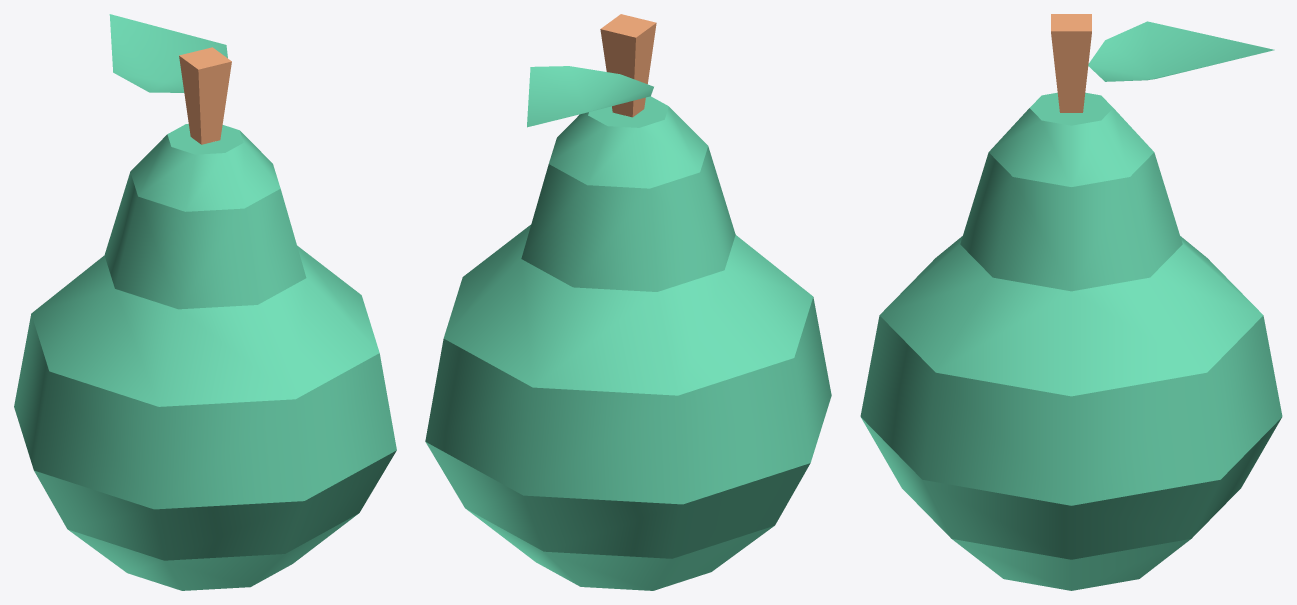
File: Pear-transformed.glb
3 renders of one model, left to right at view 1: azimuth 30°, elevation 25°; view 2: azimuth 150°, elevation 25°; view 3: azimuth 270°, elevation 25°, orthographic. The views are drawn at different scales.
Visible parts, largest first — view 1: pear; view 2: pear; view 3: pear.
Boxes of the visible parts, <box> form: pear: <box>14,14,396,590</box>; pear: <box>425,14,831,590</box>; pear: <box>860,14,1282,590</box>.
Bounding box in the file's own units: 0.1963 × 0.2708 × 0.1963.
